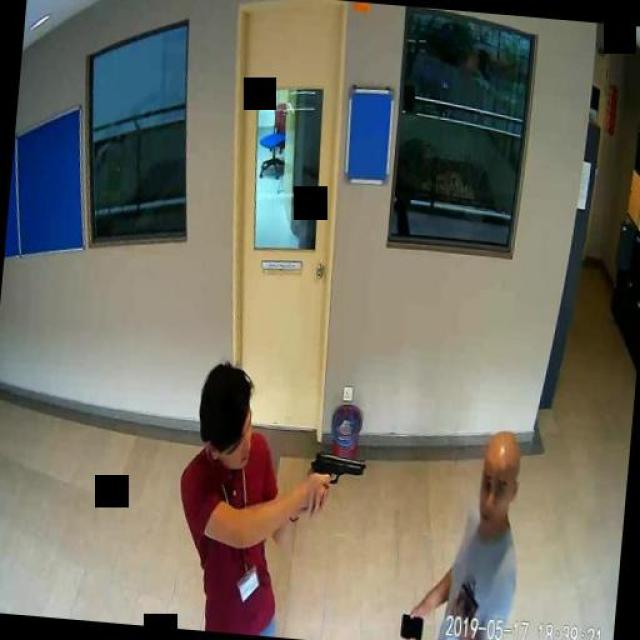gun: (305, 450, 365, 509)
